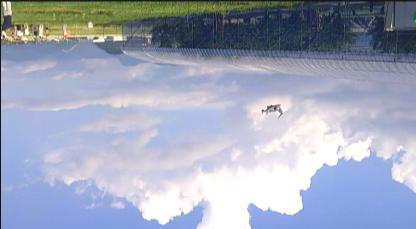Tornado: (260, 103, 290, 118)
